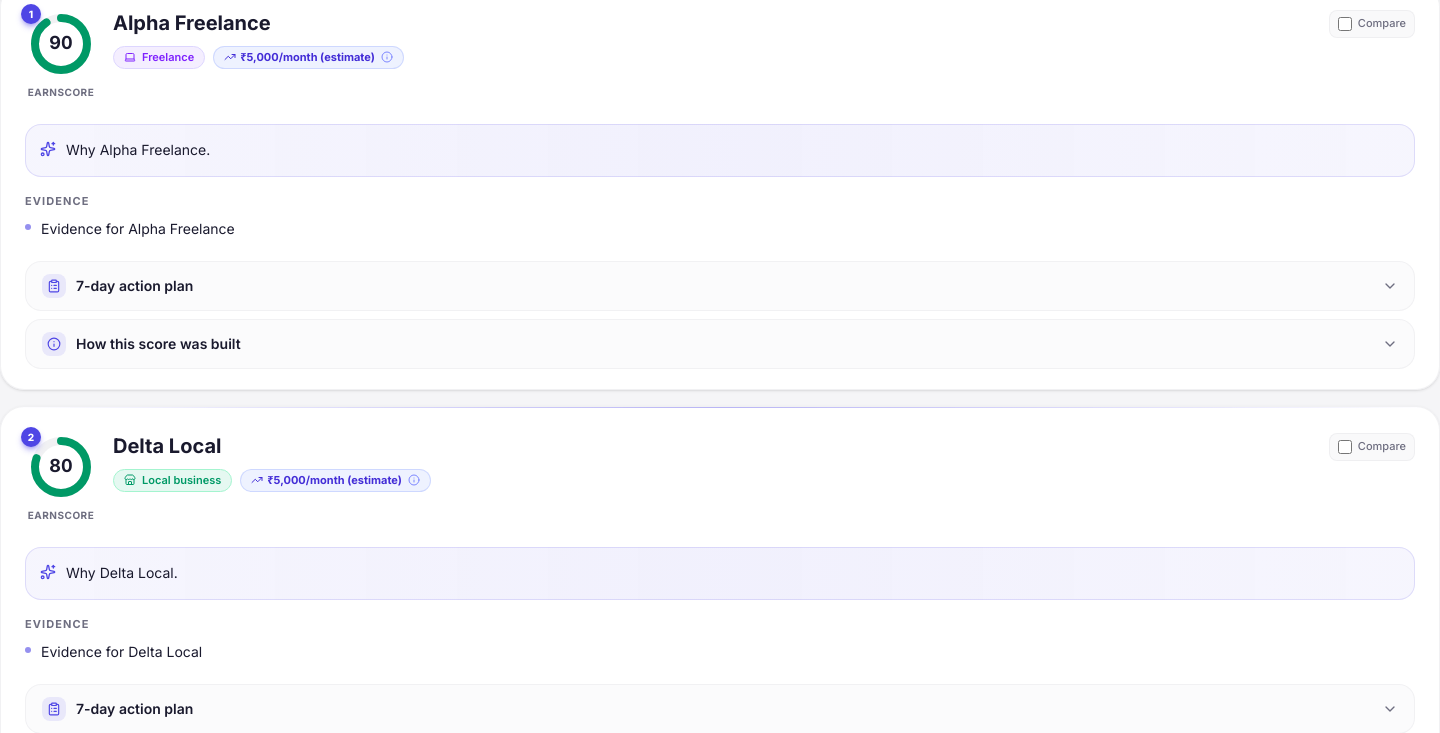
Scenario: OpportunityList › caps compare selection at 3
This screenshot has width=1440, height=733.
Click the checkbox named "compare alpha freelance" at {"x": 1345, "y": 24}, box [1338,17,1352,31]
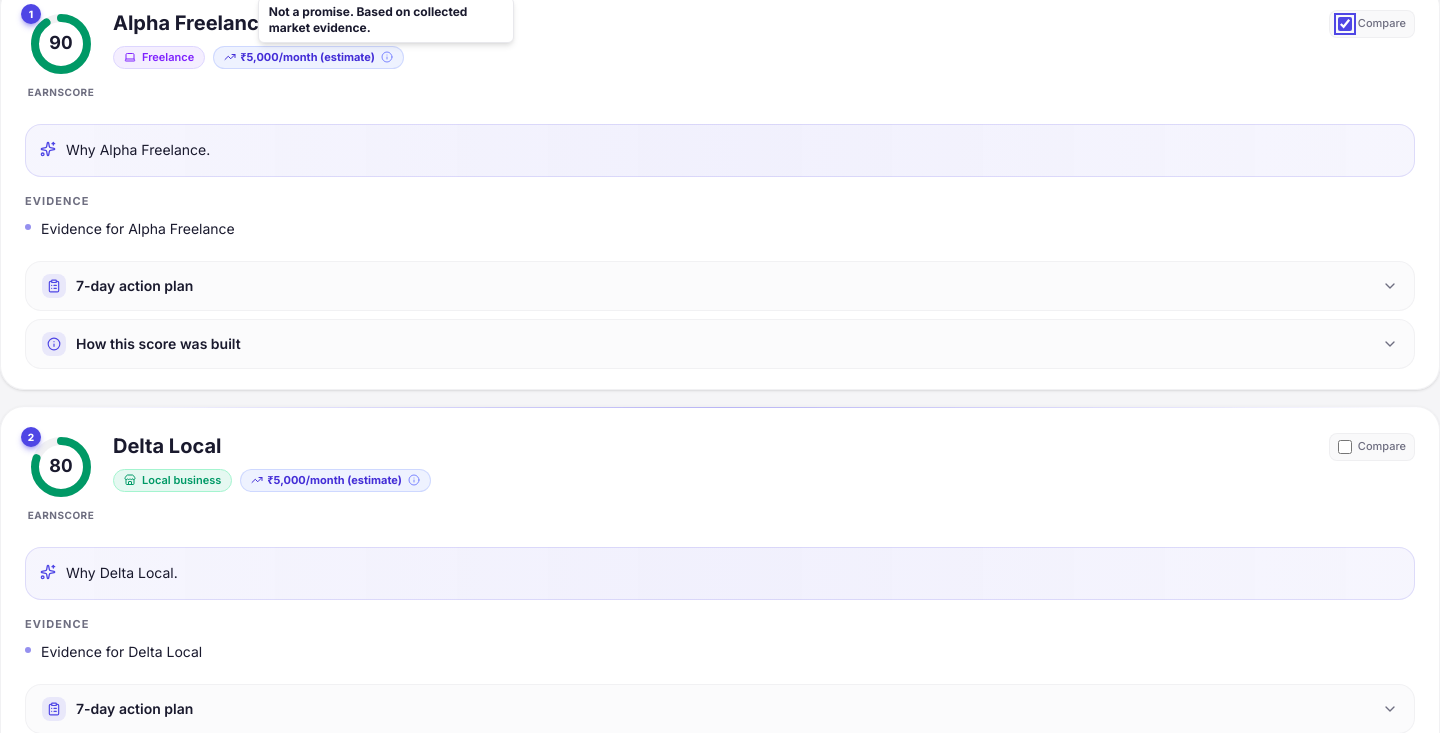
Click the checkbox named "compare delta local" at {"x": 1345, "y": 447}, box [1338,440,1352,454]
(page scrolled)
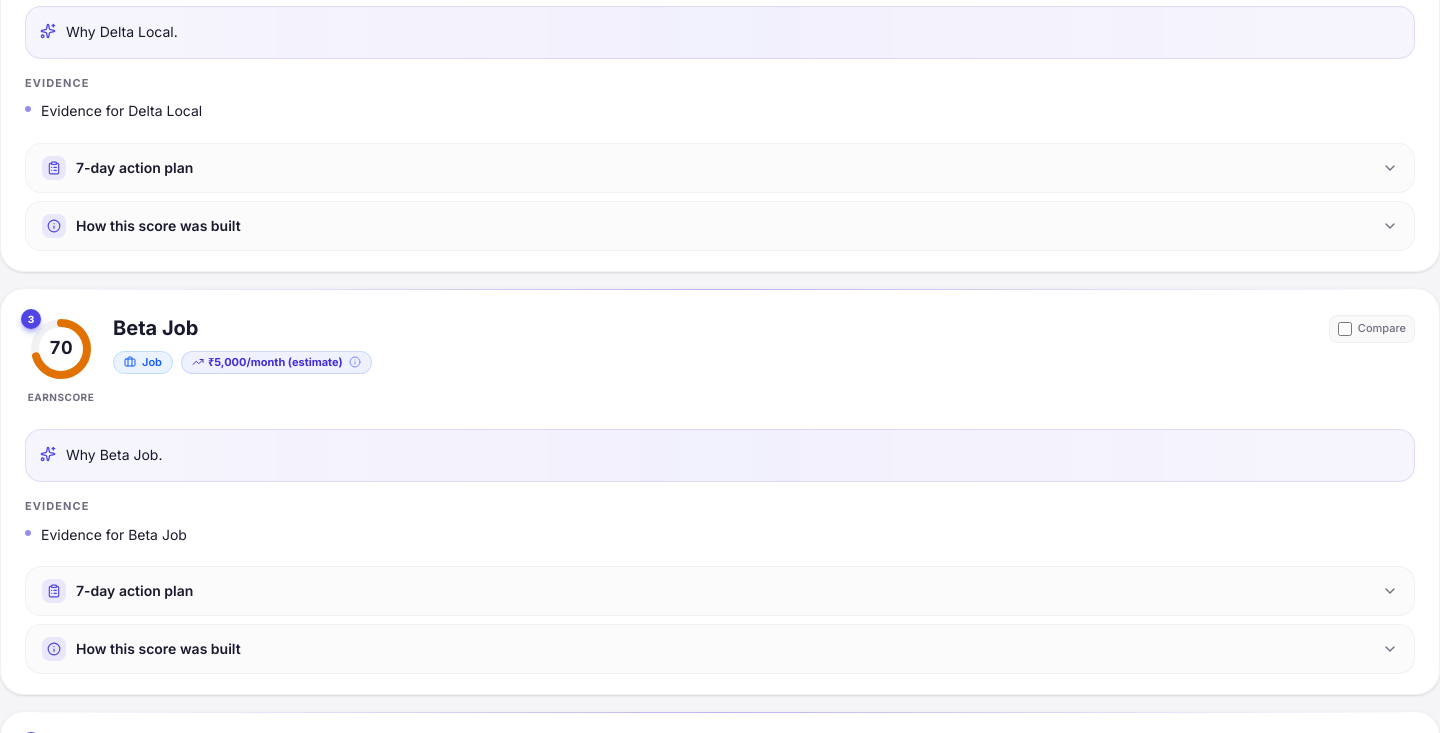
Click the checkbox named "compare beta job" at {"x": 1345, "y": 329}, box [1338,322,1352,336]
(page scrolled)
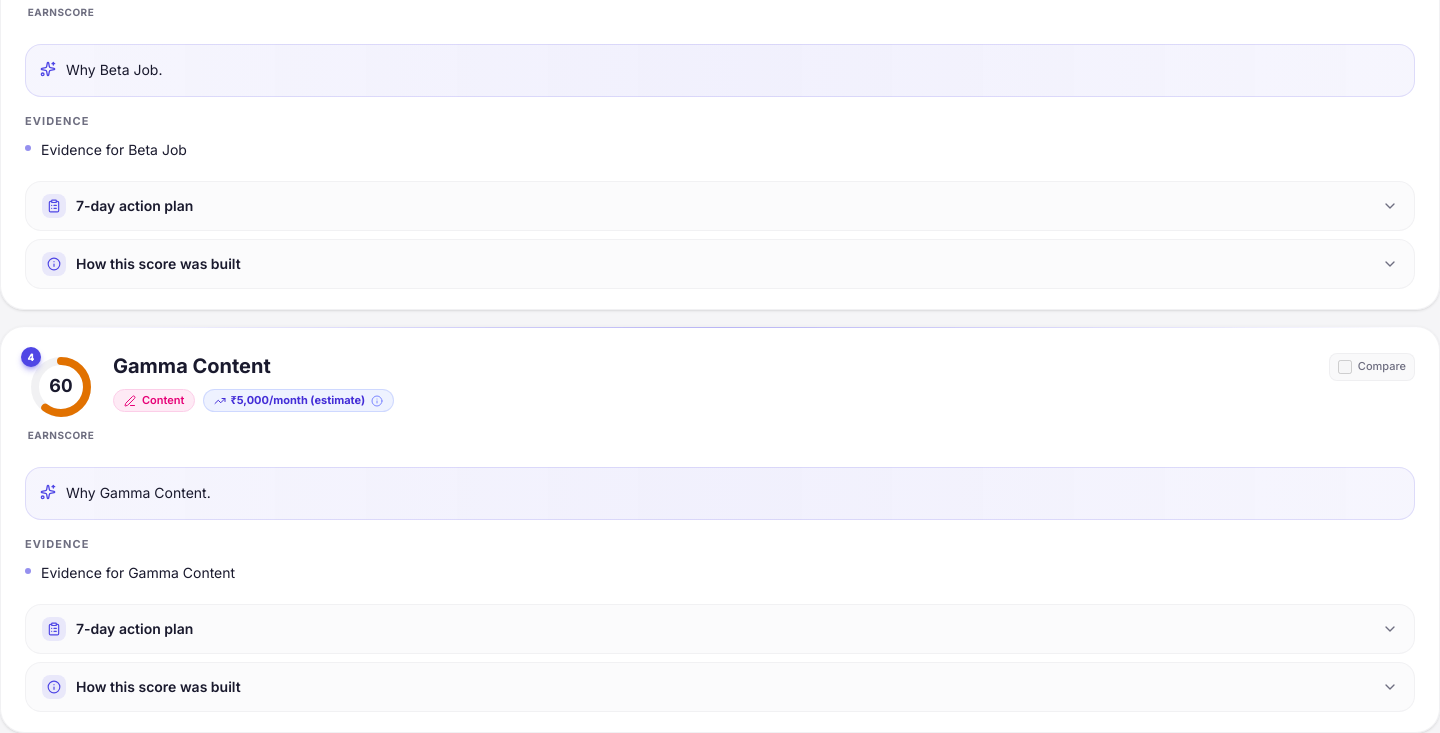
expect the checkbox named "compare gamma content" is disabled: met, box [1338,360,1352,374]
